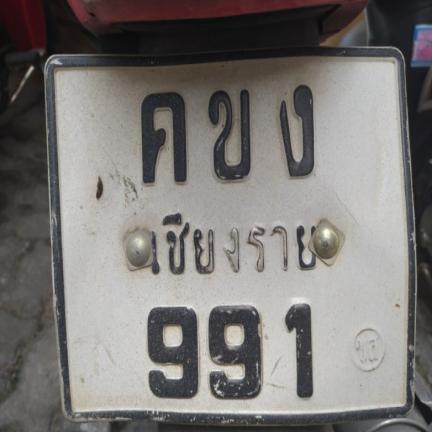1: (272, 300, 326, 402)
9: (205, 300, 266, 404), (141, 299, 201, 400)
A02: (201, 81, 255, 187)
A04: (134, 85, 192, 187)
A07: (264, 78, 323, 186)
CRI: (145, 207, 318, 281)
